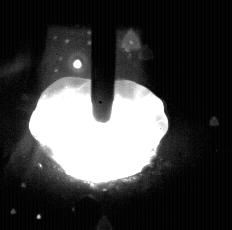arame: (92, 0, 116, 122)
poca: (29, 0, 170, 230)
